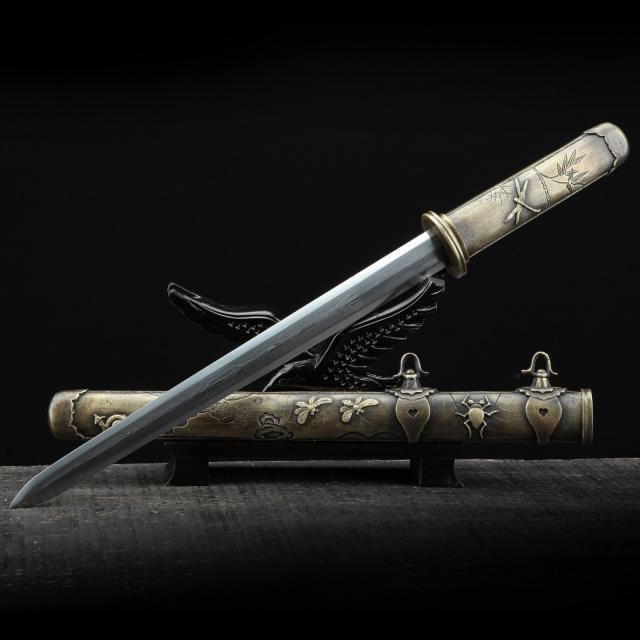short sword: (9, 118, 634, 520)
